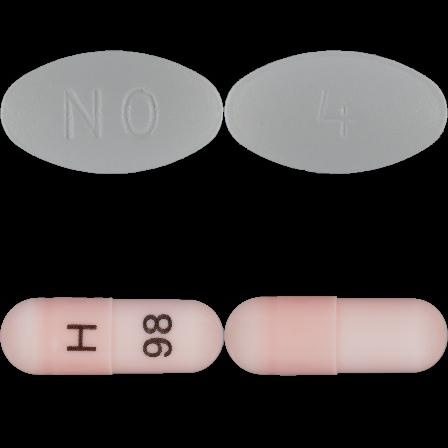58118-0450: (0, 0, 224, 224)
